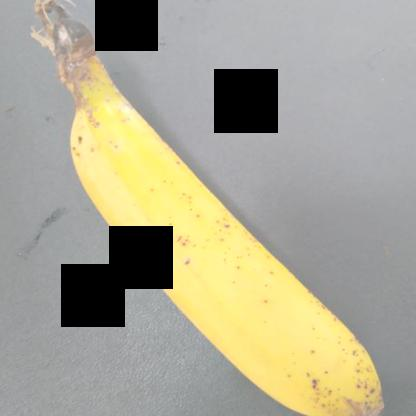ripe: (79, 114, 384, 416)
